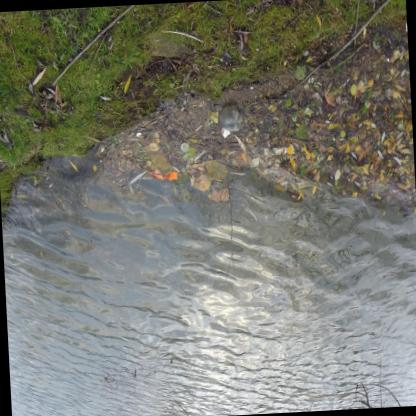Plastic: (217, 104, 241, 130), (144, 168, 176, 180)
